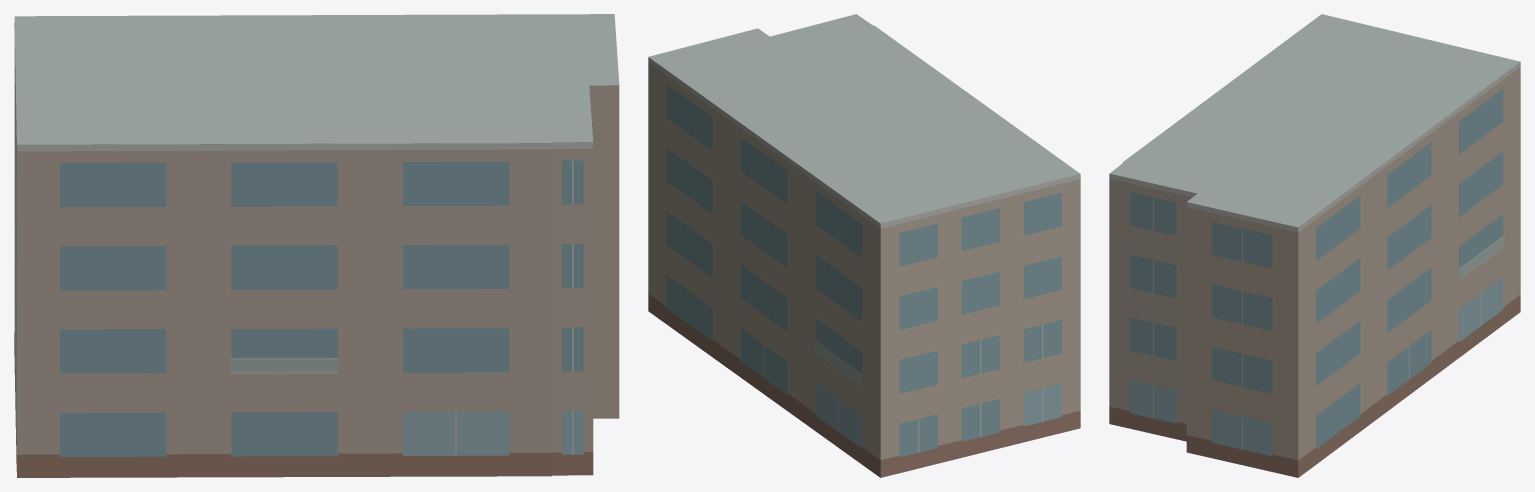
Rendered from survey-upis-32657224.glb.
3 renders of one model, left to right at view 1: azimuth 30°, elevation 25°; view 2: azimuth 150°, elevation 25°; view 3: azimuth 270°, elevation 25°, orthographic. The views are drawn at different scales.
Visible parts, largest first — view 1: survey-upis-32657224.tmp; view 2: survey-upis-32657224.tmp; view 3: survey-upis-32657224.tmp.
Part boxes in pixels (x1,y1,x2,y2): survey-upis-32657224.tmp: (14, 14, 619, 477); survey-upis-32657224.tmp: (648, 14, 1080, 477); survey-upis-32657224.tmp: (1109, 14, 1520, 477).
Bounding box in the file's own units: 22.41 × 12.25 × 18.24.
